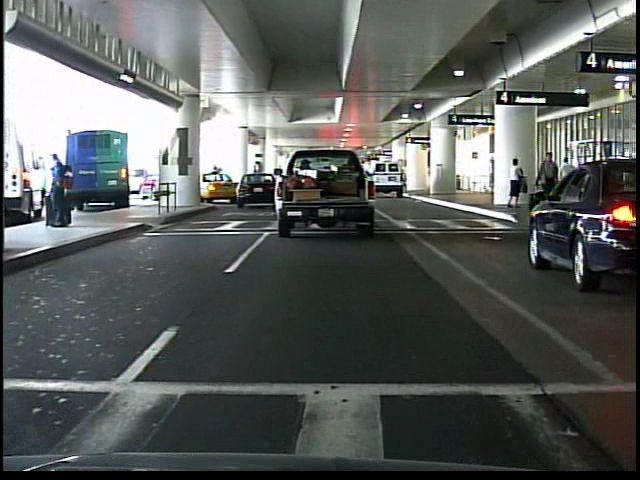person: (43, 145, 78, 236), (536, 149, 562, 217), (504, 155, 528, 211), (559, 154, 576, 174)
